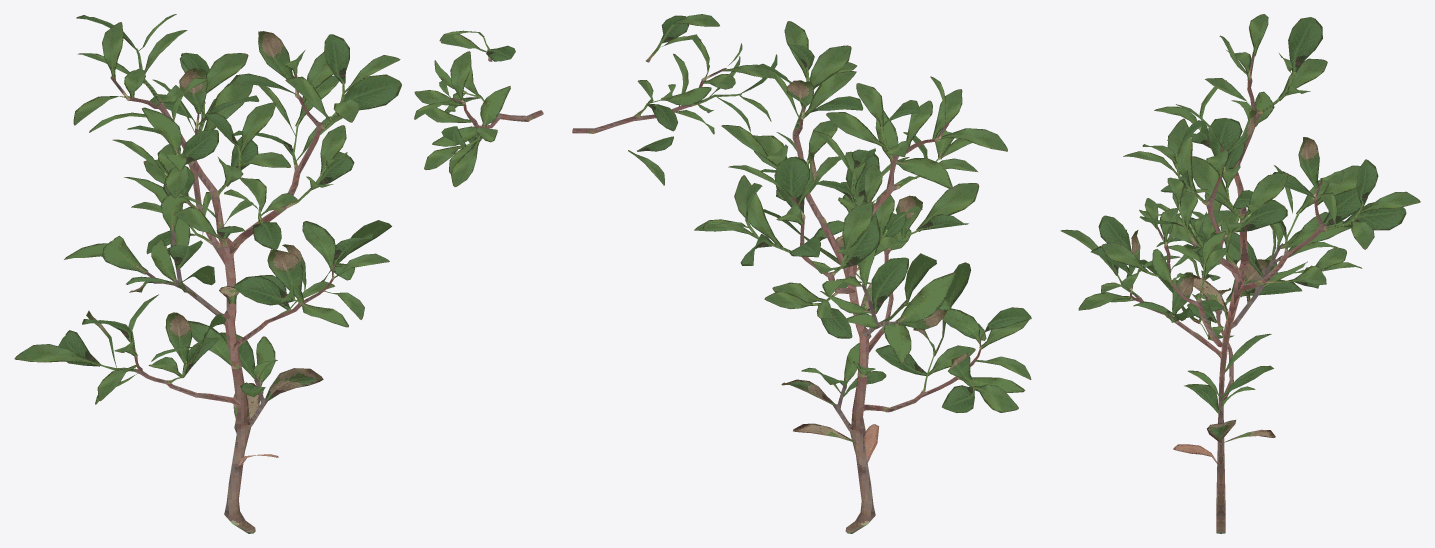
Rendered from rooted-shrub-quiet.glb.
3 renders of one model, left to right at view 1: azimuth 30°, elevation 25°; view 2: azimuth 150°, elevation 25°; view 3: azimuth 270°, elevation 25°, orthographic. The views are drawn at different scales.
Parts seen in each view (by area): view 1: rooted-shrub-quiet runtime mesh; view 2: rooted-shrub-quiet runtime mesh; view 3: rooted-shrub-quiet runtime mesh.
Part boxes in pixels (x1=…): rooted-shrub-quiet runtime mesh: x1=14, y1=14, x2=543, y2=533; rooted-shrub-quiet runtime mesh: x1=572, y1=14, x2=1031, y2=533; rooted-shrub-quiet runtime mesh: x1=1060, y1=14, x2=1420, y2=533.
Size of the model in its own units: 0.9002 by 0.9 by 0.6217.
1 material, 1 textured.
